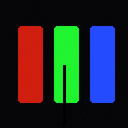4 line_v: (63, 65, 65, 125)
